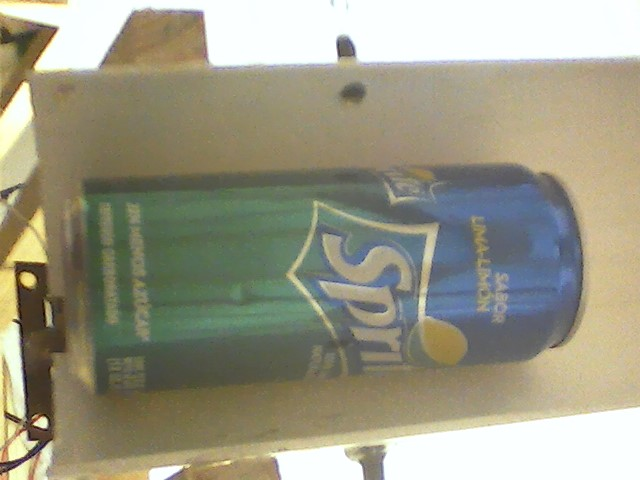lata: (48, 153, 597, 405)
